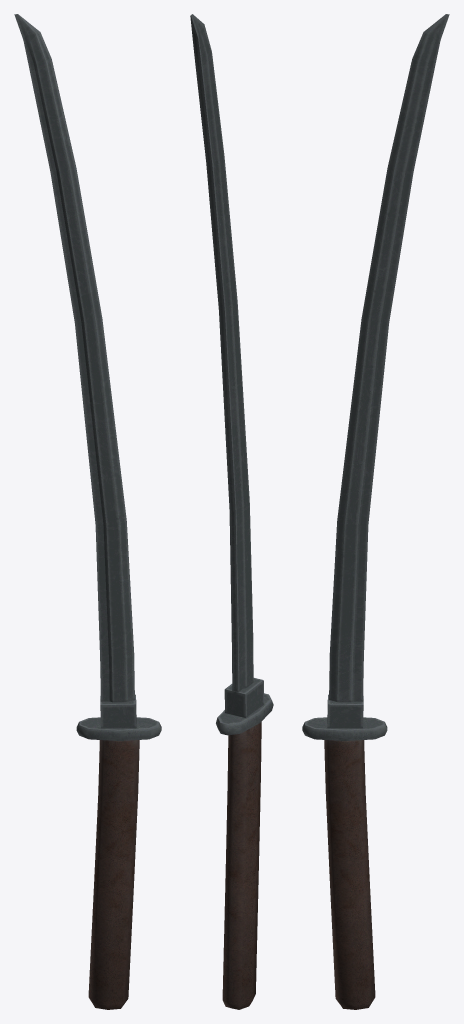
Rendered from katana.fbx.
3 renders of one model, left to right at view 1: azimuth 90°, elevation 25°; view 2: azimuth 150°, elevation 25°; view 3: azimuth 270°, elevation 25°, orthographic. The views are drawn at different scales.
Visible parts, largest first — view 1: katana; view 2: katana; view 3: katana.
Boxes of the visible parts, bbox=[...] form: katana: bbox=[14, 14, 161, 1009]; katana: bbox=[190, 14, 273, 1009]; katana: bbox=[302, 14, 449, 1009].
Bounding box in the file's own units: 6.93 × 210 × 28.23.
